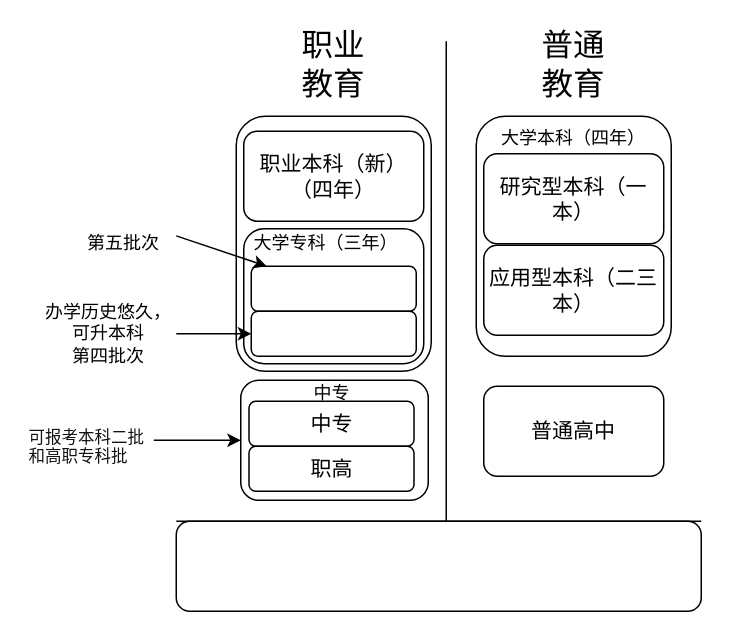
This 729x638 diagram has some shape labels left out. The shapes that lost their labels are listed below. From the top down, each one's centre as x and y in pixels, then its label:
At point 333,288: "高等职业学校".
At point 333,333: "高等专科学校".
At point 438,565: "初中毕业".
